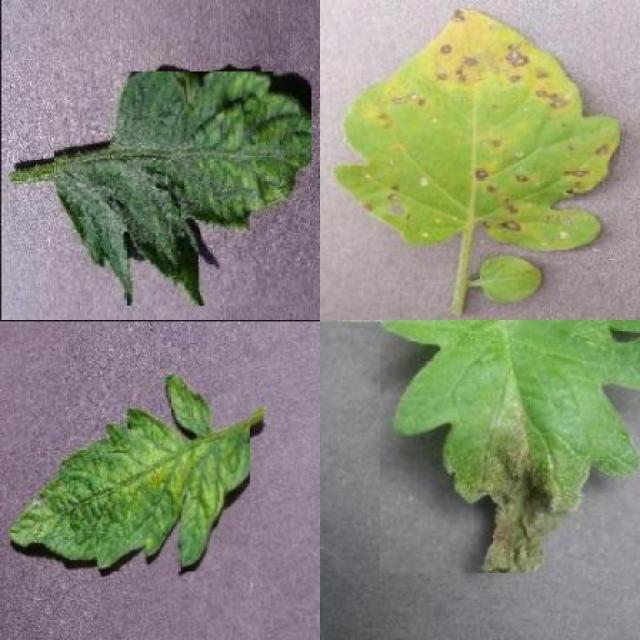Late Blight: (380, 320, 640, 573)
Mosaic Virus: (55, 71, 312, 306), (7, 375, 250, 571)
Septoria: (338, 8, 621, 252)
